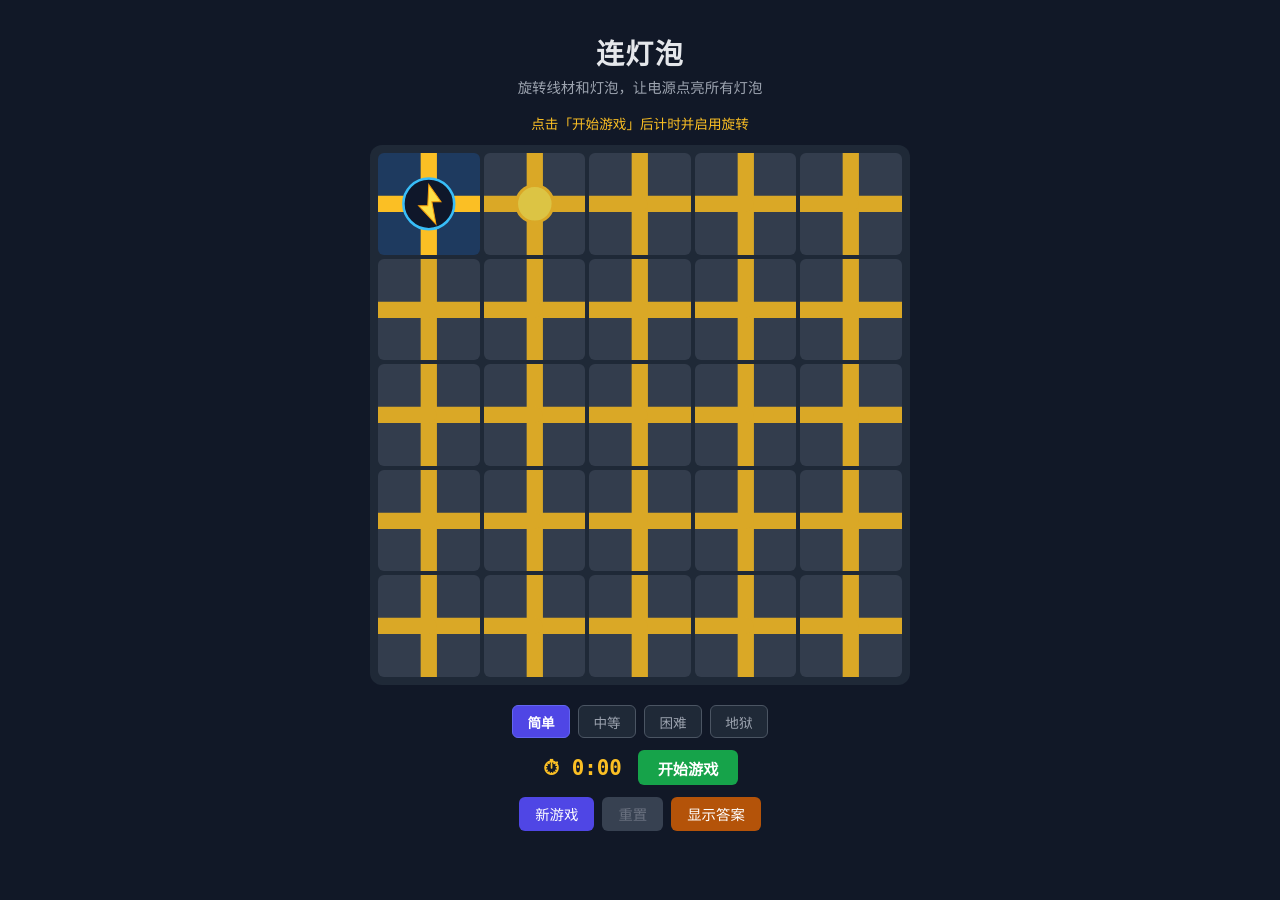
Test: App - 显示答案 › 取消后不显示答案
Click the button "显示答案" at point(716, 814), box [671,797,761,831]
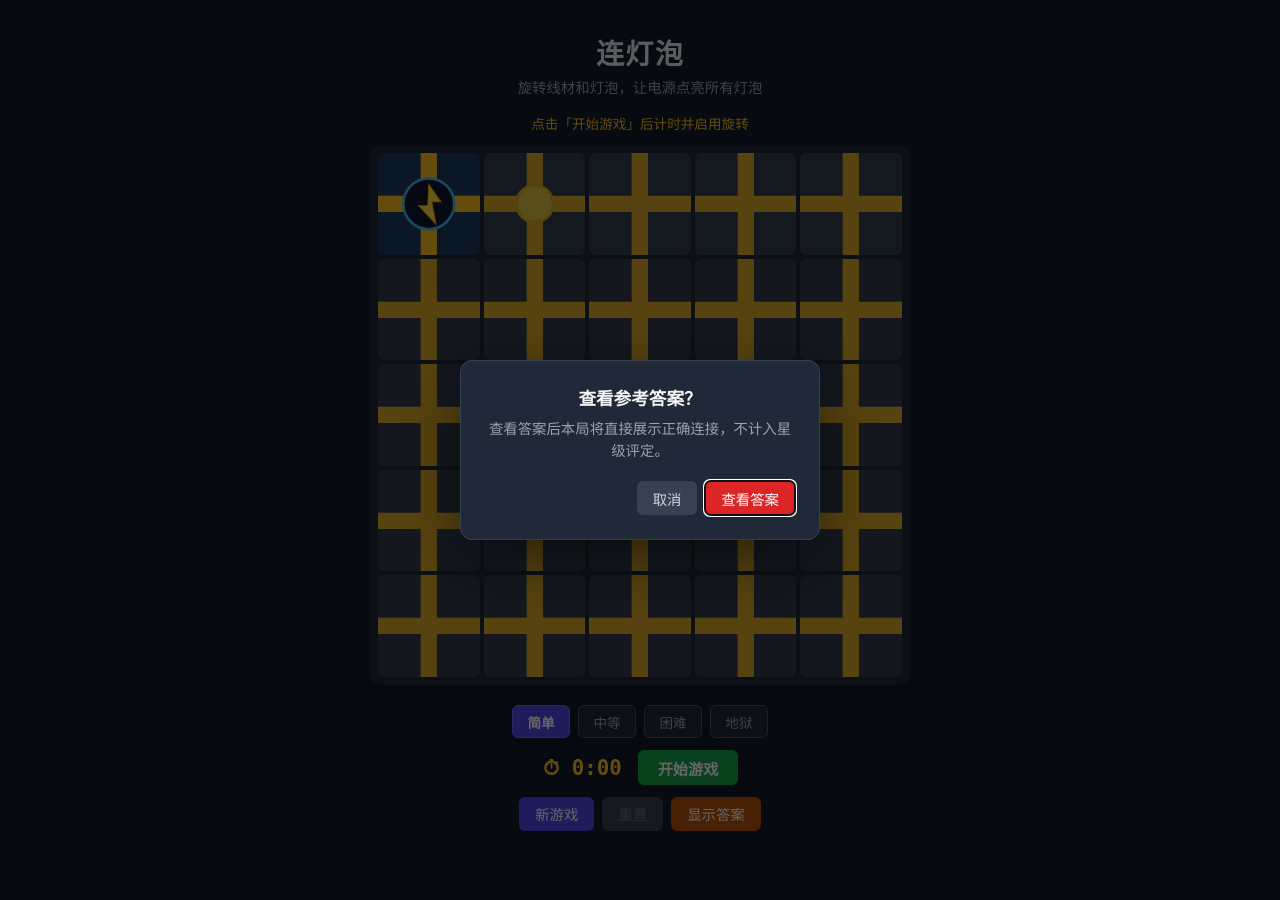
Click the button "取消" at point(667, 498), box [637,481,697,515]
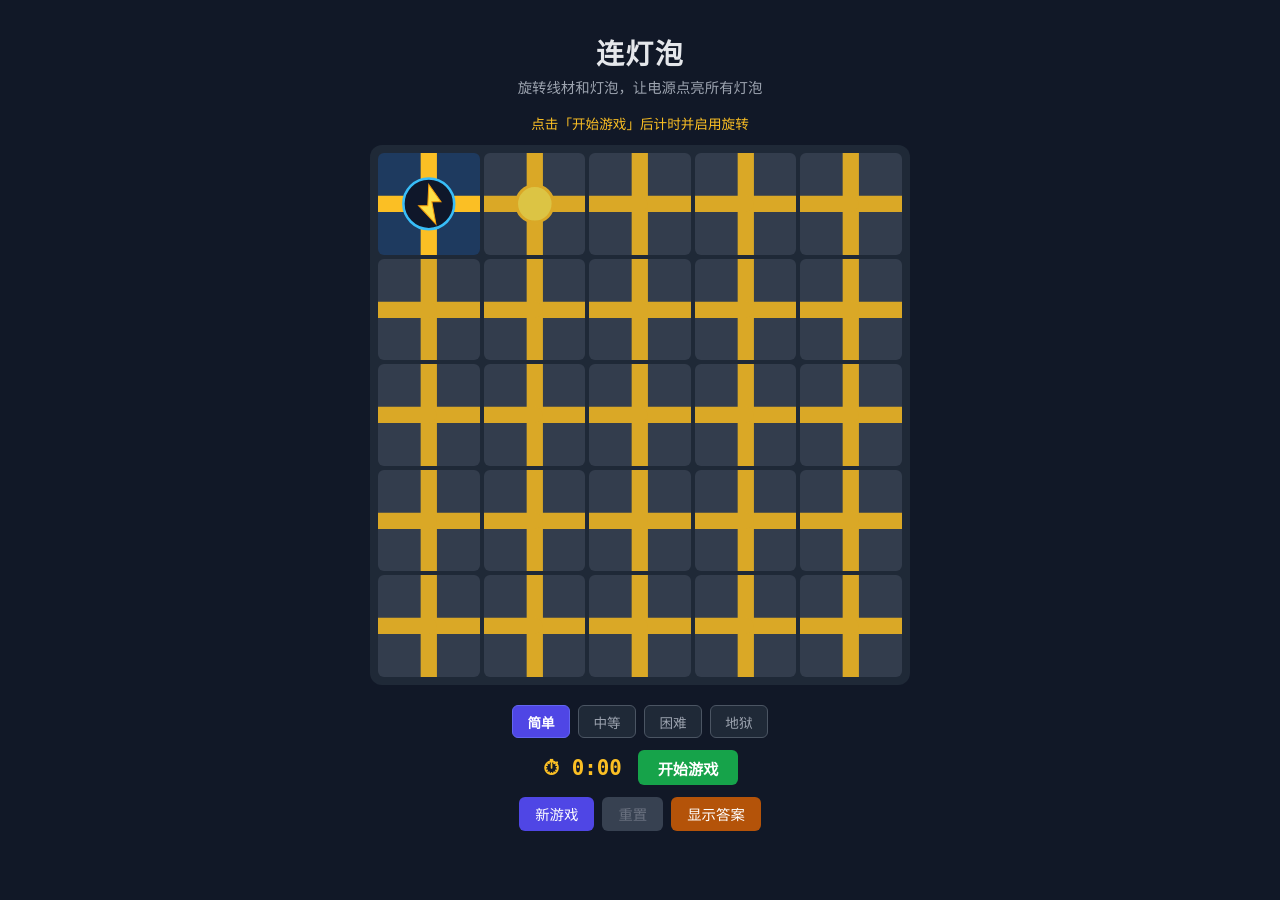
Expected: the heading "参考答案" is gone
